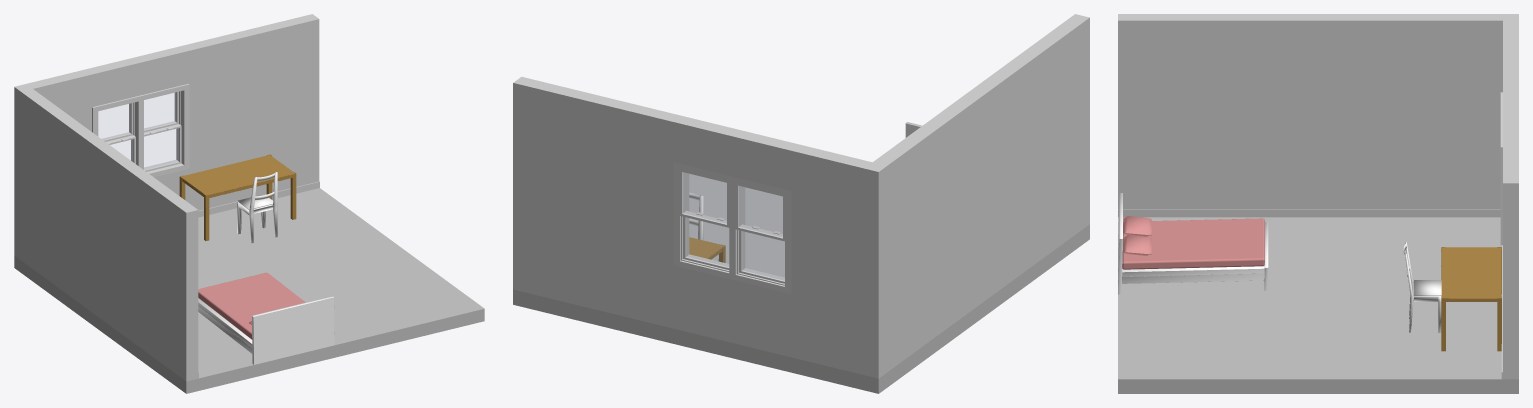
The model's file is L16_W16_furniture2_circulation1.glb.
3 views of the same model, side by side, from view 1: azimuth 30°, elevation 25°; view 2: azimuth 150°, elevation 25°; view 3: azimuth 270°, elevation 25° (orthographic). The views are drawn at different scales.
Size of the model in its own units: 200 by 116 by 200.
